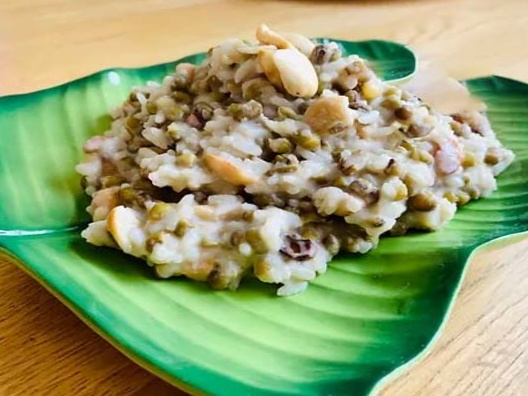kiribath: (71, 18, 507, 296)
